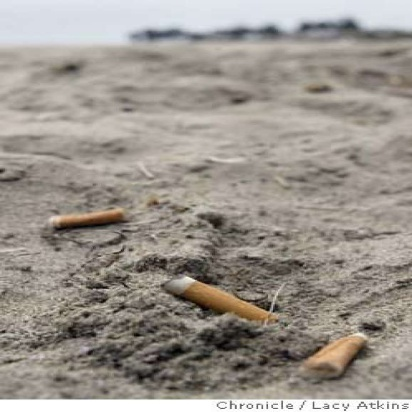cigarette: (161, 267, 290, 331), (297, 325, 375, 388), (47, 205, 127, 234)
